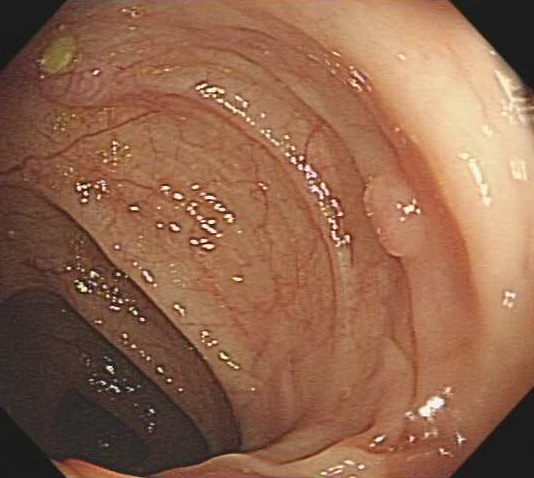adenoma: (361, 171, 424, 262)
